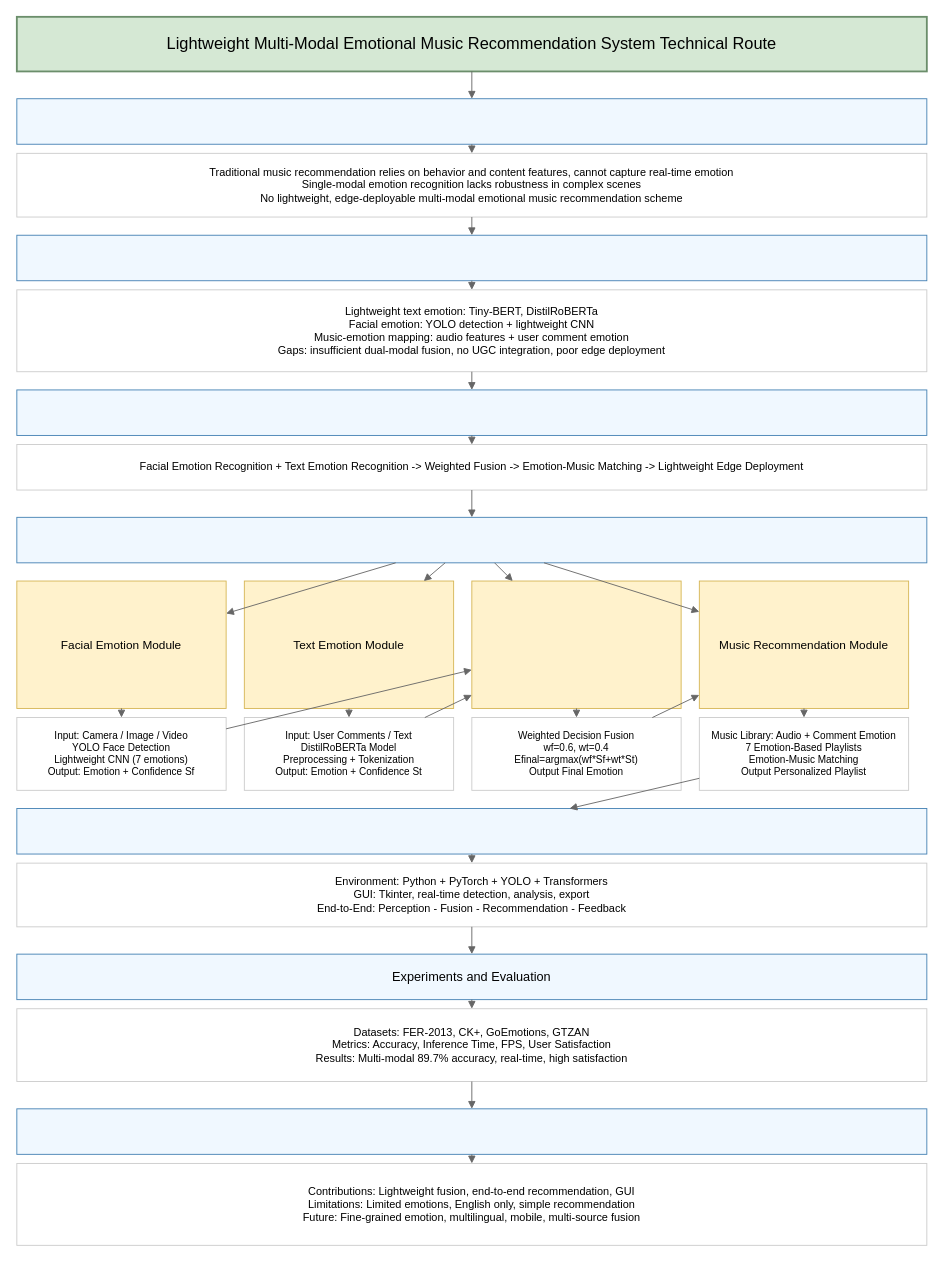
The diagram is 943 pixels wide and 1261 high, and some of its shapes have lost their labels. The shapes that lost their labels are listed below. From the top down, each one's centre as x and y in pixels, then its label:
At [471,121]: "Research Background and Problem Statement".
At [471,257]: "Literature Review and Research Gaps".
At [471,412]: "Overall Research Framework".
At [471,539]: "Core Module Implementation".
At [576,644]: "Multi-Modal Fusion Module".
At [471,831]: "System Integration and GUI".
At [471,1131]: "Conclusion and Future Work".
